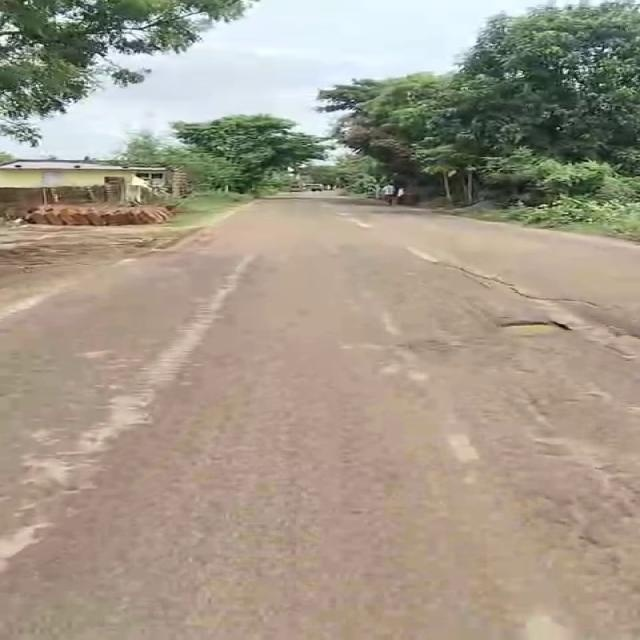pothole: (500, 318, 572, 342)
